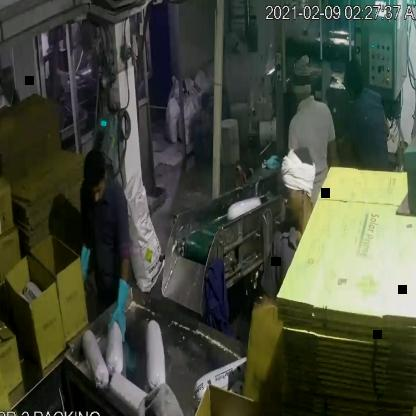glove: (106, 266, 129, 345), (74, 244, 92, 288)
